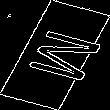M_E: (10, 24, 100, 86)
